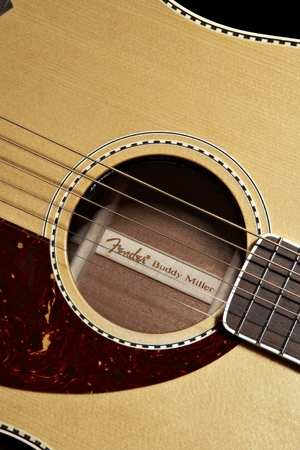guitar: (1, 1, 300, 450)
